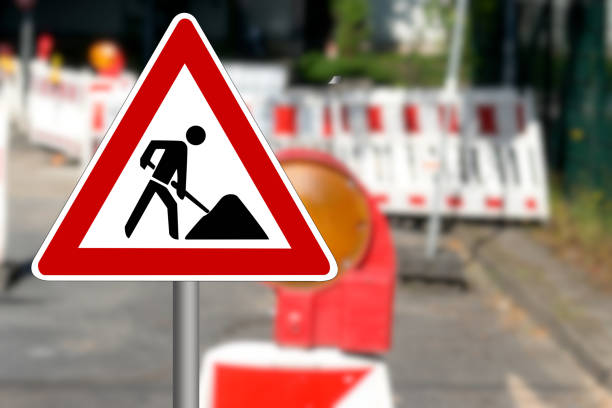yol_calismasi_levha: (27, 12, 337, 281)
